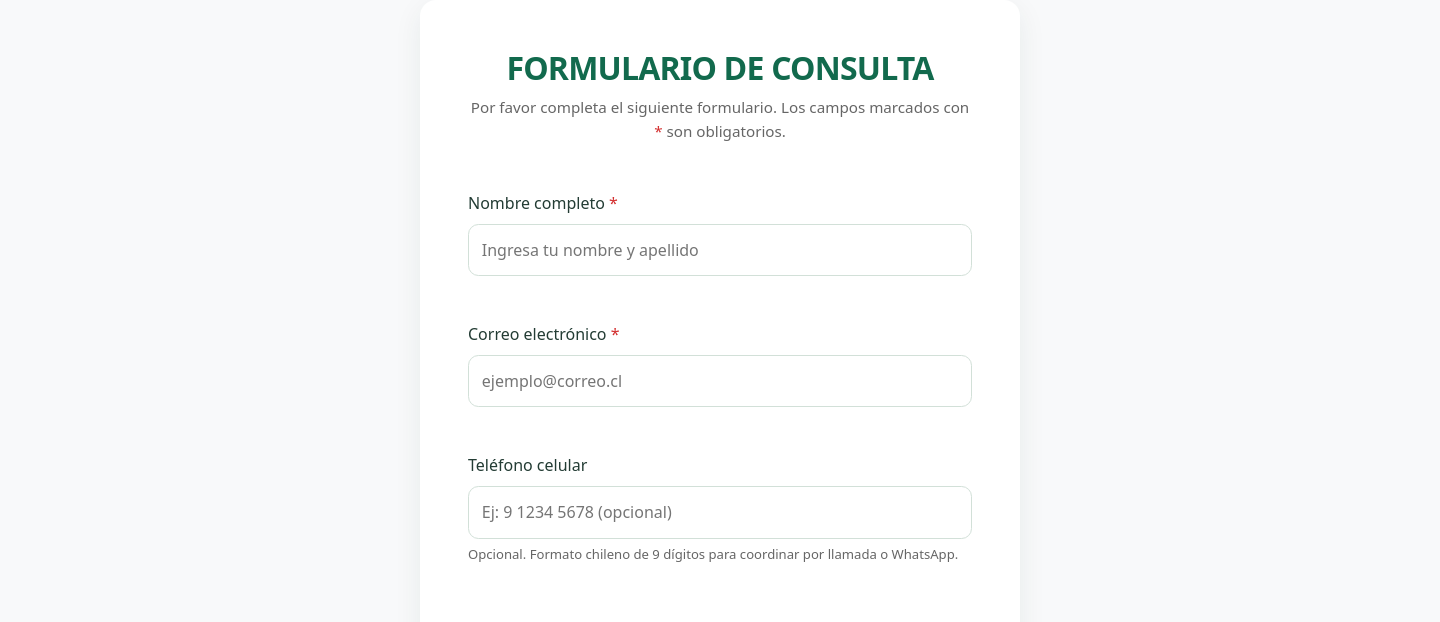
Scenario: Pruebas de interacción del formulario de contacto › debe mostrar el error cuando se envía un correo inválido
(page scrolled)
Type "correo-invalido" into the field labelled "Correo electrónico *".
click(720, 381); type("correo-invalido")  # box [468,355,972,407]
(page scrolled)
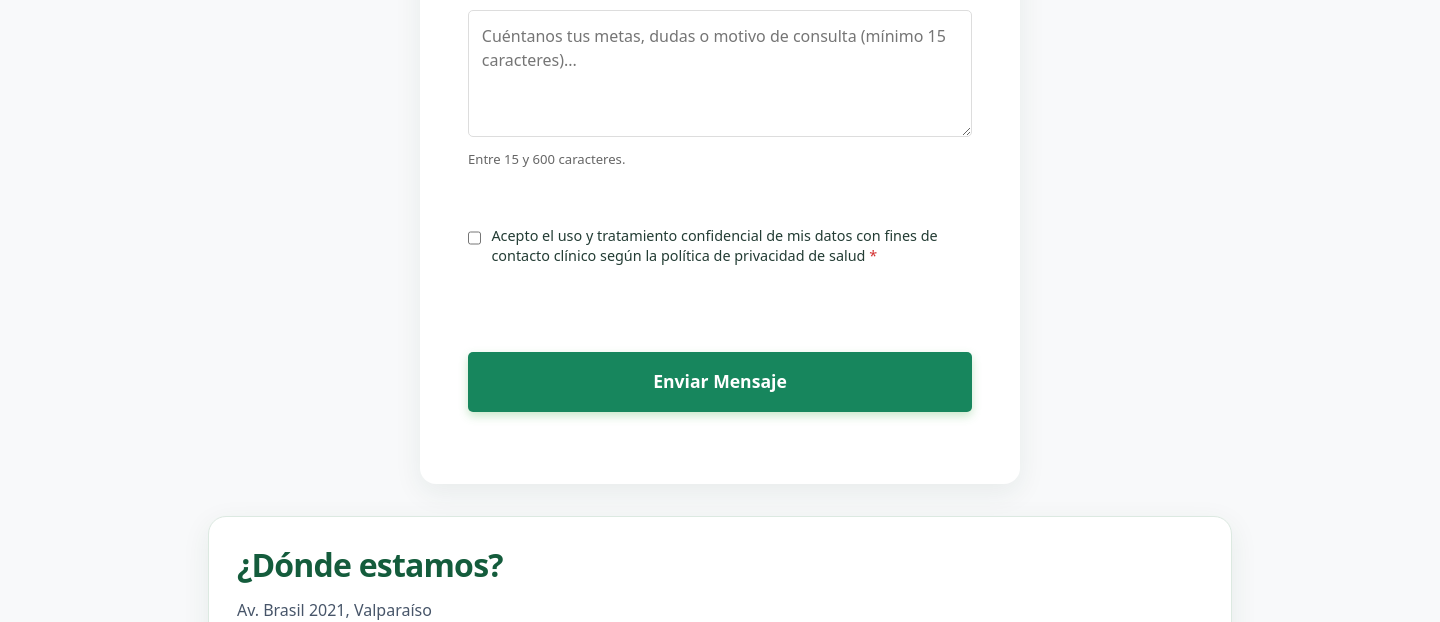
Click the button "Enviar Mensaje".
click(720, 382)  # box [468,352,972,412]
(page scrolled)
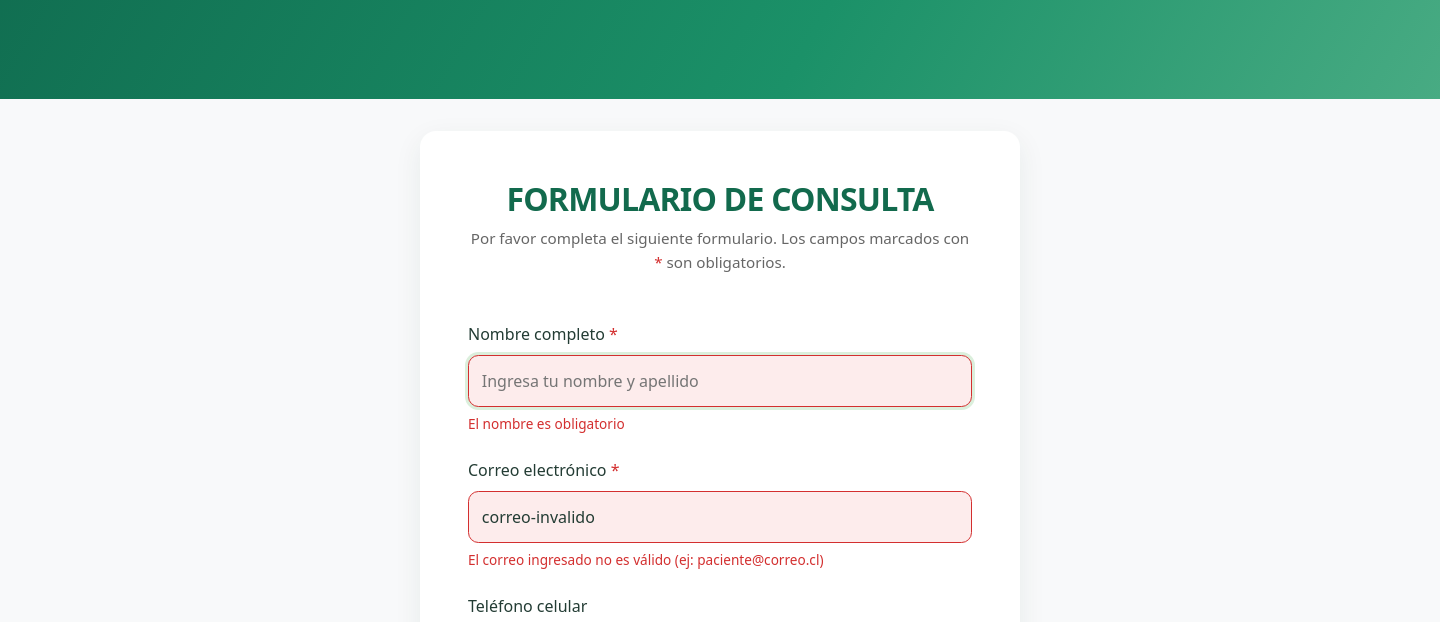
expect the text "El correo ingresado no es válido (ej: paciente@correo.cl)" is shown: met, box [468,550,824,569]
